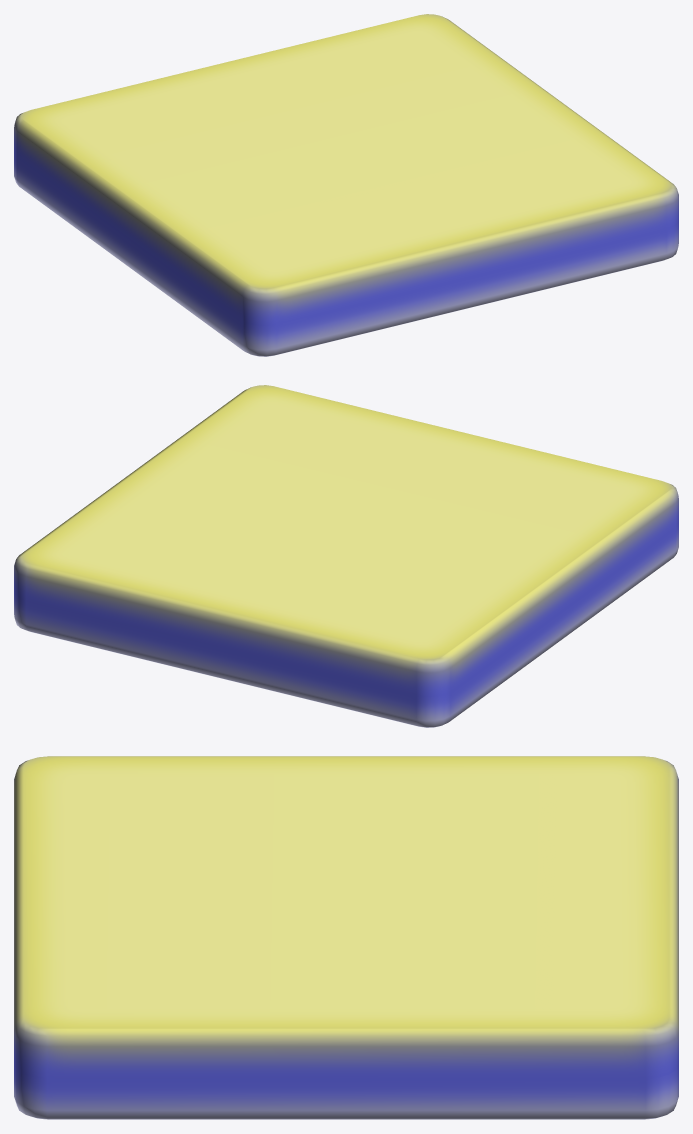
File: stage20.fbx
3 renders of one model, top to bottom at view 1: azimuth 30°, elevation 25°; view 2: azimuth 150°, elevation 25°; view 3: azimuth 270°, elevation 25°, orthographic. The views are drawn at different scales.
Parts seen in each view (by area): view 1: stage20; view 2: stage20; view 3: stage20.
Boxes of the visible parts, left/top/right/bottom form: stage20: left=14, top=14, right=678, bottom=356; stage20: left=14, top=385, right=678, bottom=727; stage20: left=14, top=756, right=678, bottom=1119.
Bounding box in the file's own units: 2000 × 300 × 2000.
